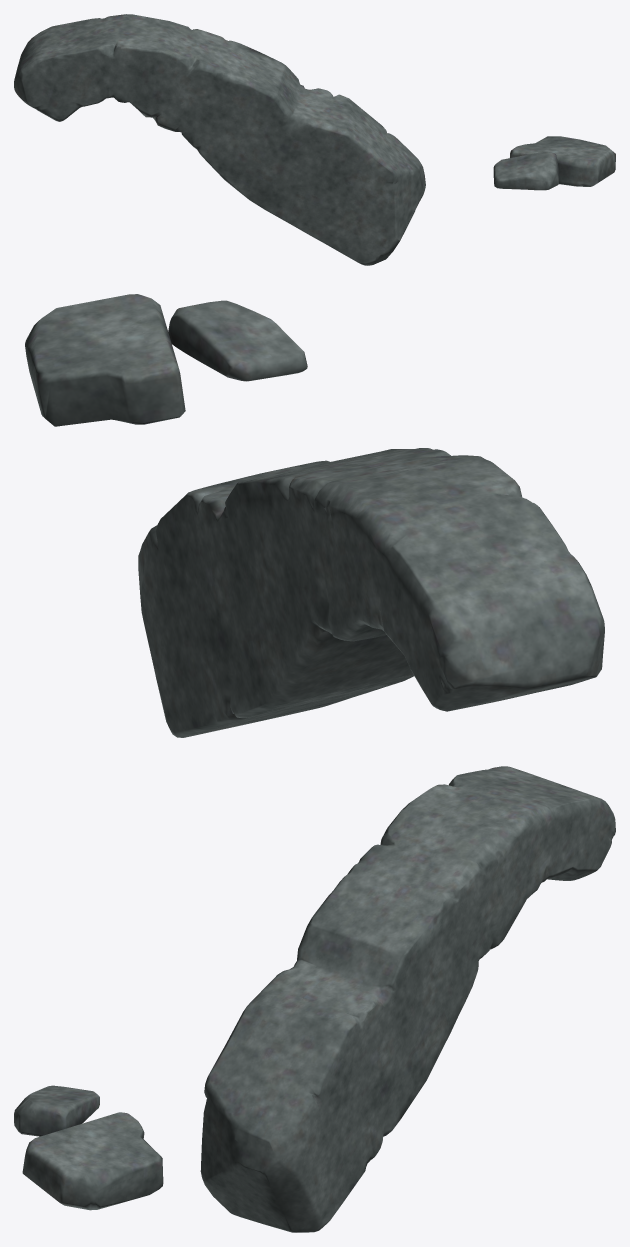
File: caos_stl_rubble_01a_soma_v36.glb
3 views of the same model, one above another, from view 1: azimuth 30°, elevation 25°; view 2: azimuth 150°, elevation 25°; view 3: azimuth 270°, elevation 25° (orthographic). The views are drawn at different scales.
Parts seen in each view (by area): view 1: caos_stl_rubble_01a; view 2: caos_stl_rubble_01a; view 3: caos_stl_rubble_01a.
Boxes of the visible parts, x1,y1,x2,y2 form: caos_stl_rubble_01a: (14, 14, 615, 265); caos_stl_rubble_01a: (25, 294, 604, 737); caos_stl_rubble_01a: (14, 766, 615, 1232).
Size of the model in its own units: 13.13 by 6 by 10.91.
1 material, 1 textured.
